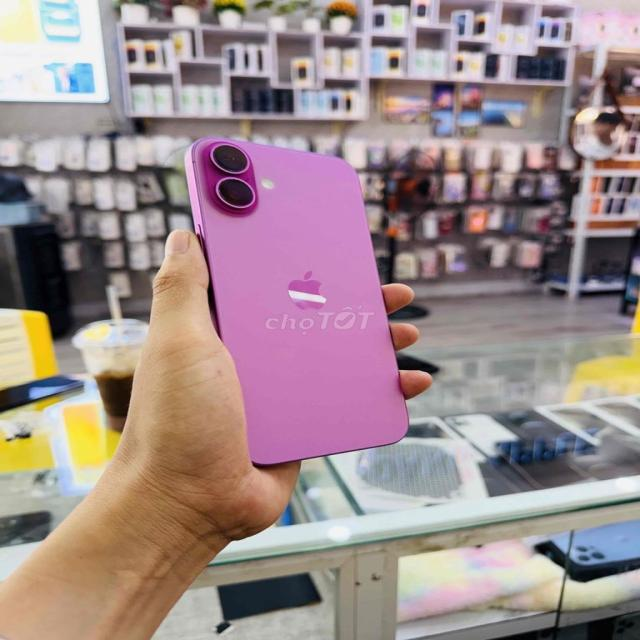gen_16: (185, 137, 408, 464)
scratch: (189, 150, 202, 170)
